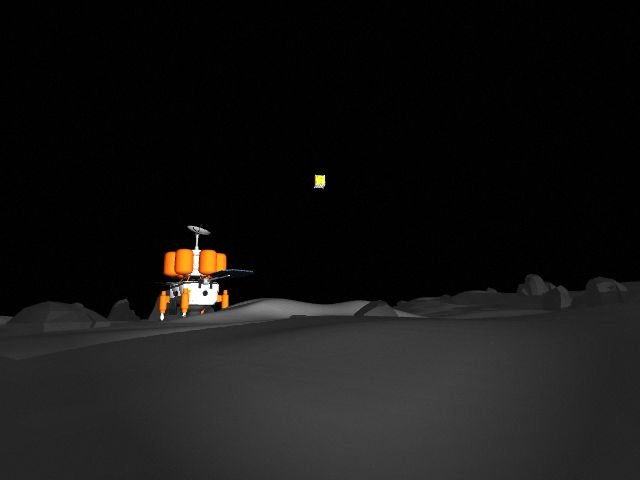homebase: (150, 222, 256, 321)
